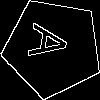A: (28, 22, 79, 65)
